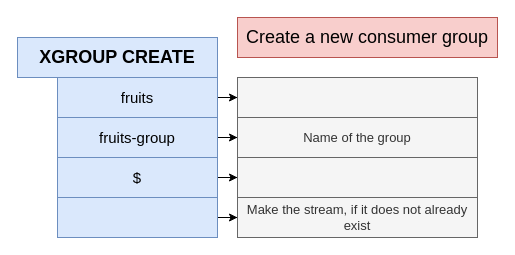
The diagram is 515 pixels wide and 255 high, and some of its shapes have lost their labels. The shapes that lost their labels are listed below. From the top down, each one's centre as x and y in pixels, then its label:
At point (357, 97): "Key of the stream".
At point (357, 177): "If the stream already exists, only handle messages added from this point on".
At point (137, 217): "MKSTREAM".
